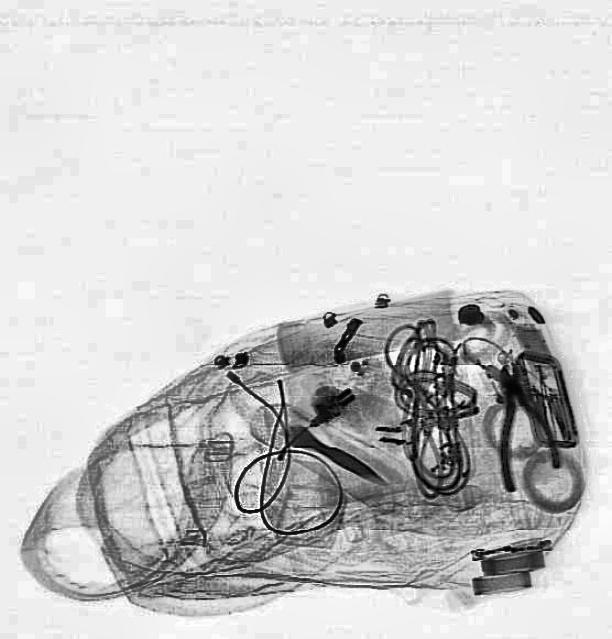Pliers: (476, 356, 566, 492)
